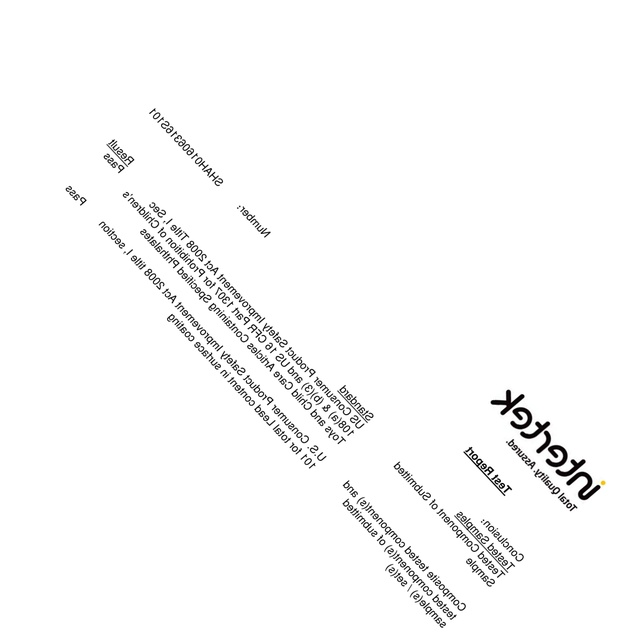intertek: (490, 387, 608, 503)
